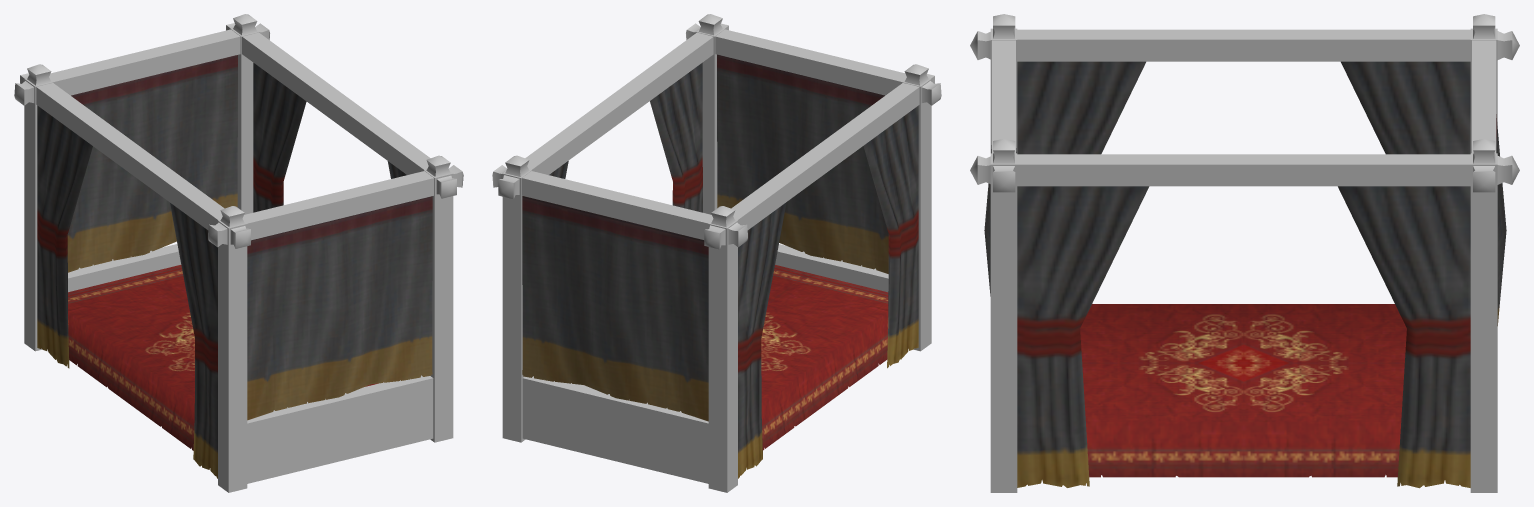
File: Bed_1C.fbx
3 views of the same model, side by side, from view 1: azimuth 30°, elevation 25°; view 2: azimuth 150°, elevation 25°; view 3: azimuth 270°, elevation 25° (orthographic). The views are drawn at different scales.
Parts seen in each view (by area): view 1: Alpha, polySurface7933; view 2: Alpha, polySurface7933; view 3: Alpha, polySurface7933.
Part boxes in pixels (x1,y1,x2,y2): Alpha: (37, 55, 432, 478); polySurface7933: (14, 14, 463, 492); Alpha: (522, 54, 918, 478); polySurface7933: (492, 14, 941, 492); Alpha: (984, 61, 1506, 488); polySurface7933: (970, 14, 1519, 492).
Bounding box in the file's own units: 2.73 × 2.87 × 4.1.
